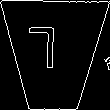L_S: (38, 30, 70, 81)
